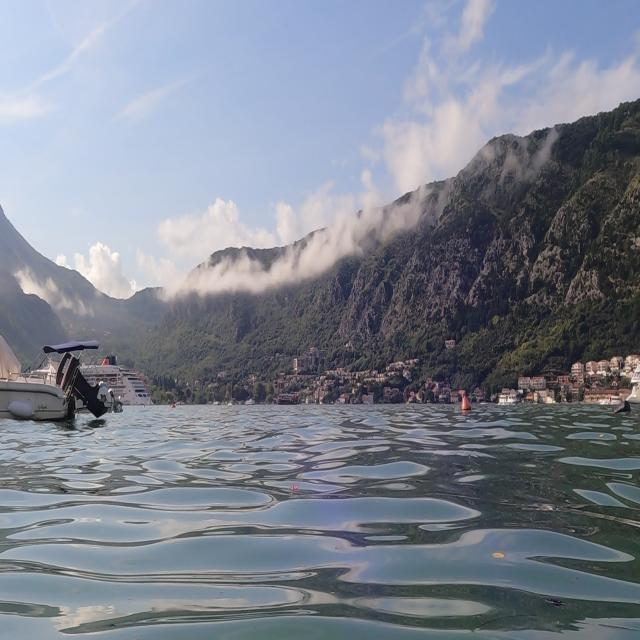boat: (1, 332, 116, 426)
buoy: (456, 391, 474, 419), (612, 400, 632, 421)
